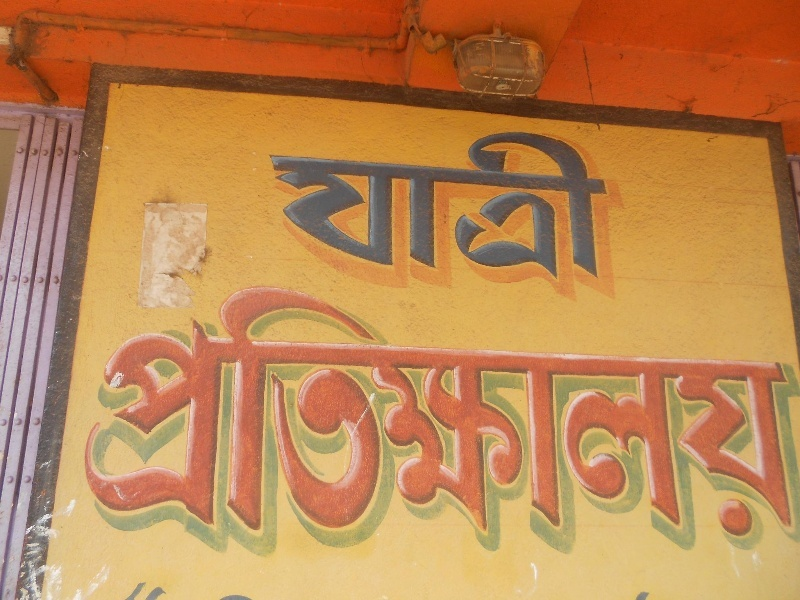text: (81, 283, 96, 554), (97, 283, 112, 554), (113, 283, 128, 554), (129, 283, 144, 554), (145, 283, 160, 554), (161, 283, 176, 554), (177, 283, 192, 554), (193, 283, 208, 554), (209, 283, 224, 554), (225, 283, 240, 554), (241, 283, 256, 554), (257, 283, 272, 554), (273, 283, 288, 554), (289, 283, 304, 554), (305, 283, 320, 554), (321, 283, 336, 554), (337, 283, 352, 554), (353, 283, 368, 554), (369, 283, 384, 554), (385, 283, 400, 554), (401, 283, 416, 554), (417, 283, 432, 554), (433, 283, 448, 554), (449, 283, 464, 554), (465, 283, 480, 554), (481, 283, 496, 554), (497, 283, 512, 554), (513, 283, 528, 554), (529, 283, 544, 554), (545, 283, 560, 554), (561, 283, 576, 554), (577, 283, 592, 554), (593, 283, 608, 554), (609, 283, 624, 554), (625, 283, 640, 554), (641, 283, 656, 554), (657, 283, 672, 554), (673, 283, 688, 554), (689, 283, 704, 554), (705, 283, 720, 554), (721, 283, 736, 554), (737, 283, 752, 554), (753, 283, 768, 554), (769, 283, 784, 554), (785, 283, 798, 554), (609, 130, 625, 288), (273, 130, 288, 288), (289, 130, 304, 288), (305, 130, 320, 288), (321, 130, 336, 288), (337, 130, 352, 288), (353, 130, 368, 288), (369, 130, 384, 288), (385, 130, 400, 288), (401, 130, 416, 288), (417, 130, 432, 288), (433, 130, 448, 288), (449, 130, 464, 288), (465, 130, 480, 288), (481, 130, 496, 288), (497, 130, 512, 288), (513, 130, 528, 288), (529, 130, 544, 288), (545, 130, 560, 288), (561, 130, 576, 288), (577, 130, 592, 288), (593, 130, 608, 288), (264, 130, 272, 288), (145, 576, 160, 600), (79, 283, 80, 554), (161, 576, 172, 600), (641, 589, 656, 600), (225, 590, 240, 600), (138, 576, 144, 600), (241, 590, 255, 600), (636, 589, 640, 600), (657, 589, 661, 600)
